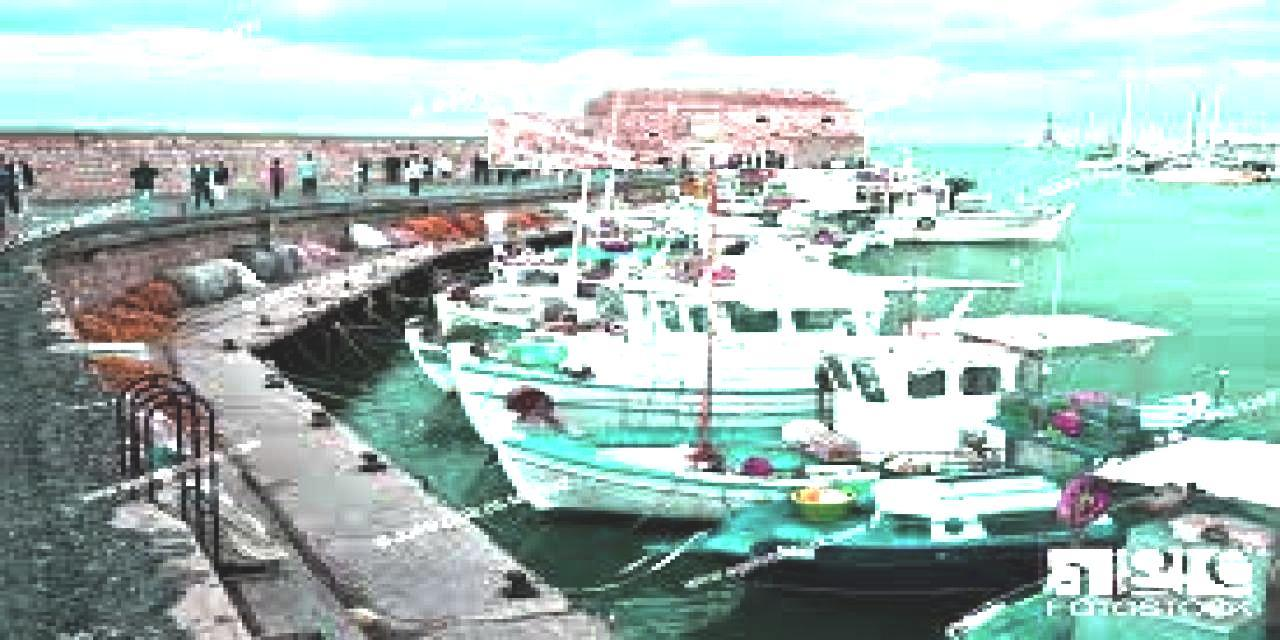Kules: (489, 85, 865, 170)
